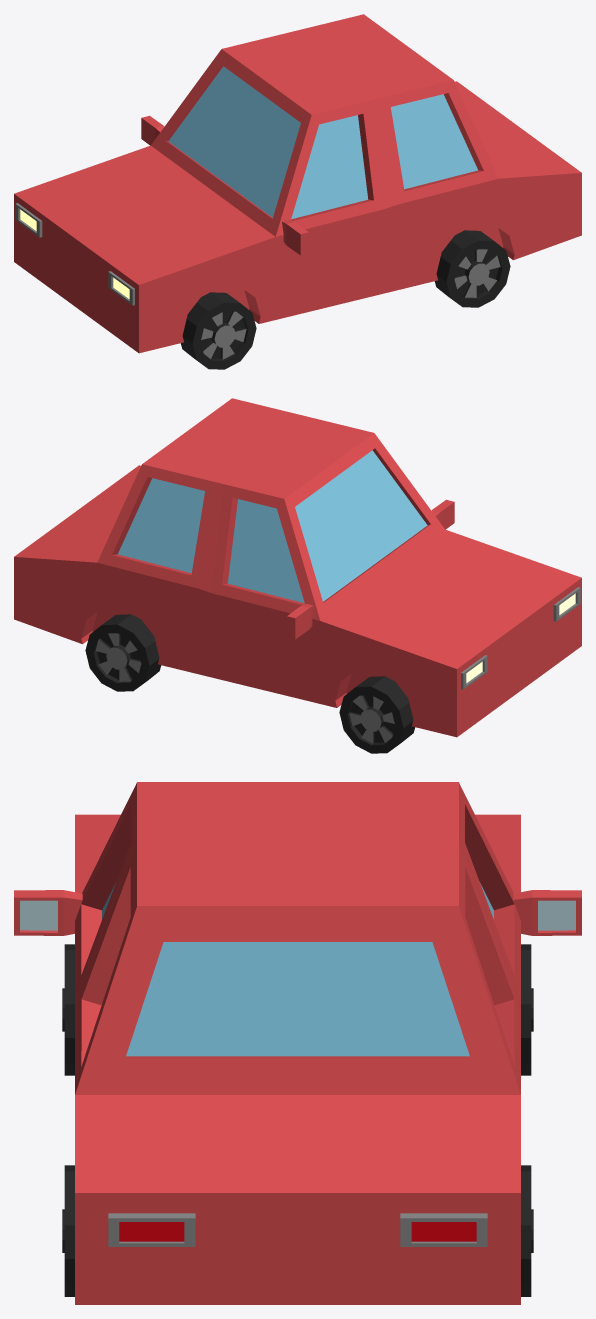
The model's file is low_poly_car.glb.
The picture shows the model from 3 angles, top to bottom: view 1: azimuth 30°, elevation 25°; view 2: azimuth 150°, elevation 25°; view 3: azimuth 270°, elevation 25°; orthographic projection. The views are drawn at different scales.
Visible parts, largest first — view 1: Car, Cylinder.001, Mirror.001, Cube, Cube.002; view 2: Car, Cylinder.001, Mirror.001, Cube.002, Cube; view 3: Car, Cylinder.001, Cube.003, Mirror.001.
Part boxes in pixels (bbox=[...]): Car: bbox=[14, 14, 581, 353]; Cylinder.001: bbox=[181, 230, 510, 369]; Mirror.001: bbox=[141, 115, 308, 255]; Cube: bbox=[15, 203, 42, 237]; Cube.002: bbox=[108, 271, 134, 305]; Car: bbox=[14, 398, 581, 737]; Cylinder.001: bbox=[85, 614, 414, 753]; Mirror.001: bbox=[287, 499, 454, 639]; Cube.002: bbox=[553, 587, 580, 621]; Cube: bbox=[461, 655, 487, 689]; Car: bbox=[75, 782, 520, 1304]; Cylinder.001: bbox=[62, 944, 533, 1296]; Cube.003: bbox=[108, 1213, 487, 1246]; Mirror.001: bbox=[14, 890, 581, 935].
Bounding box in the file's own units: 194 × 87.48 × 118.
